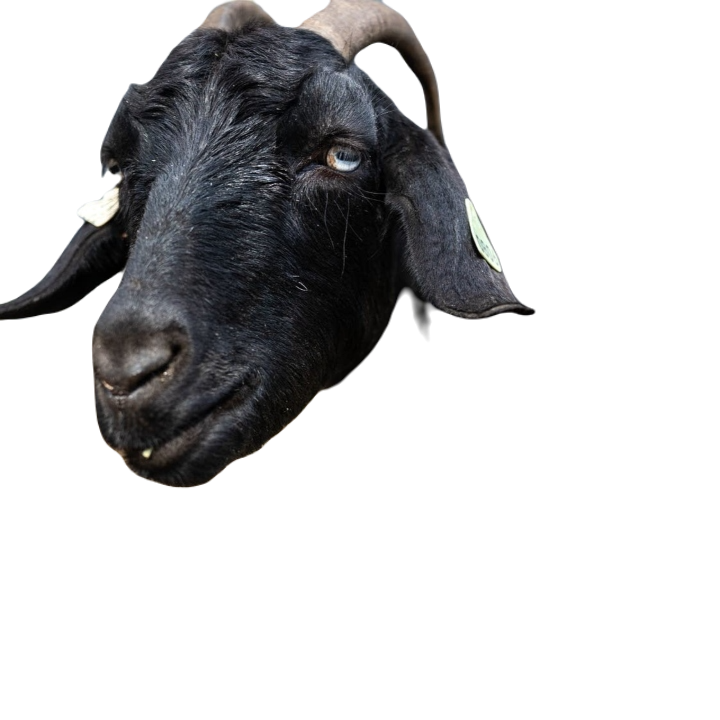Goat: (0, 0, 551, 489)
